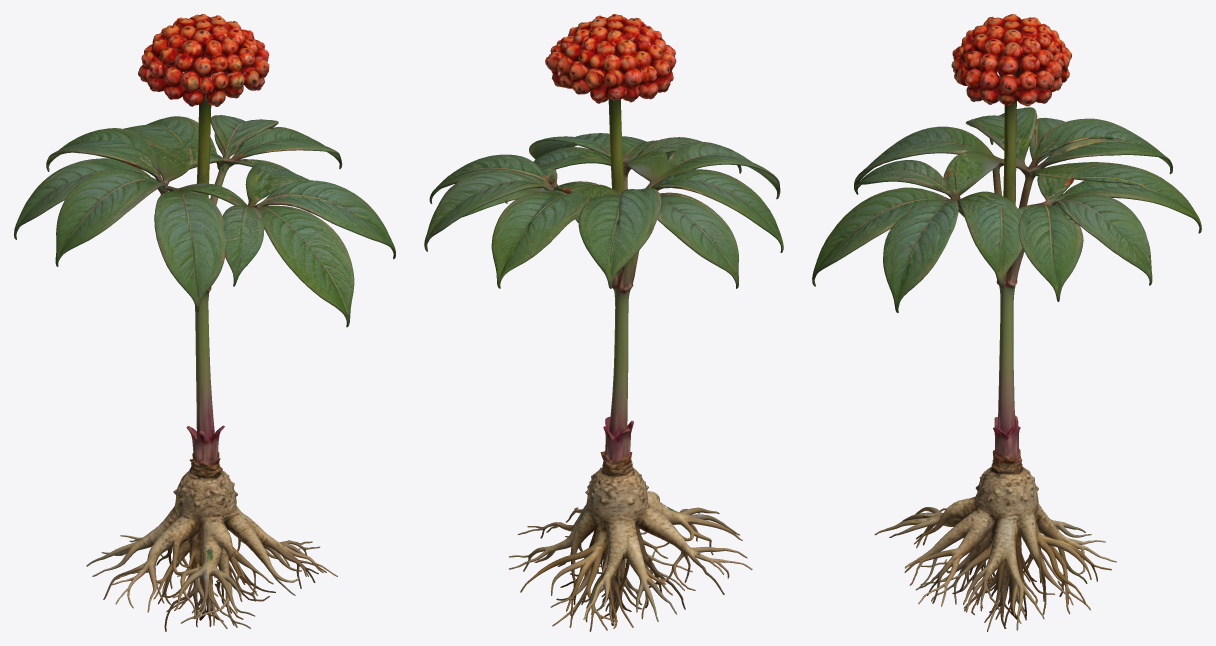
File: sanqi_model.glb
The picture shows the model from 3 angles, left to right: view 1: azimuth 30°, elevation 25°; view 2: azimuth 150°, elevation 25°; view 3: azimuth 270°, elevation 25°; orthographic projection.
Parts seen in each view (by area): view 1: Sanqi; view 2: Sanqi; view 3: Sanqi.
Boxes of the visible parts, bbox=[...] form: Sanqi: bbox=[14, 14, 395, 631]; Sanqi: bbox=[424, 14, 783, 631]; Sanqi: bbox=[812, 14, 1201, 631].
Bounding box in the file's own units: 0.6616 × 1.19 × 0.7029.
1 material, 1 textured.
